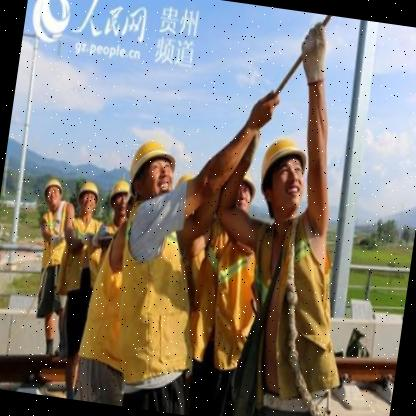capacete: (257, 133, 313, 191), (126, 136, 180, 191), (74, 176, 104, 206), (107, 175, 134, 205), (42, 176, 67, 198)
